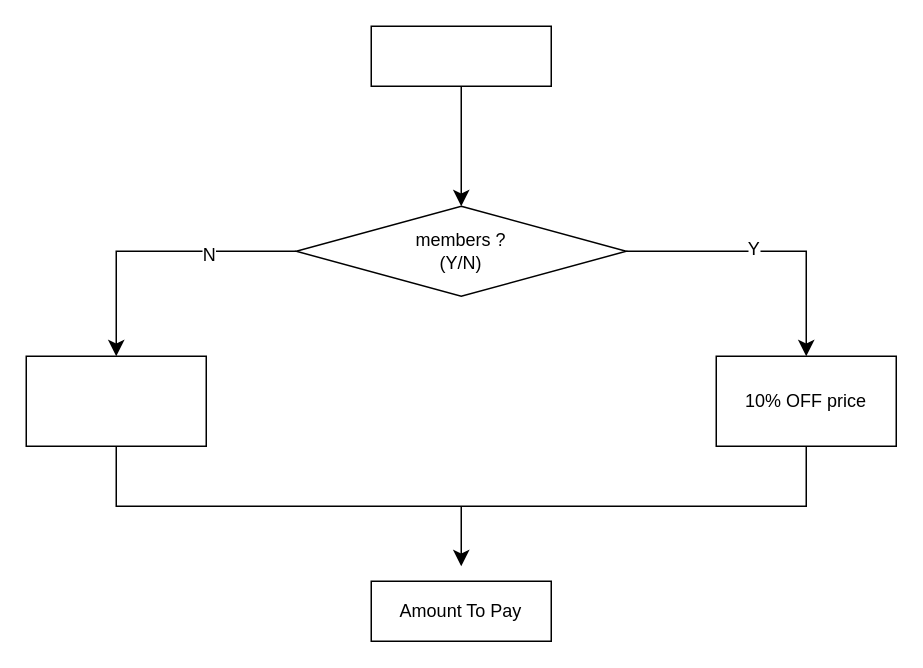
The diagram is 923 pixels wide and 668 high, and some of its shapes have lost their labels. Each missing label, with the centre of its shape:
asking about Quantity ?: (460,55)
Normal Price: (115,400)
